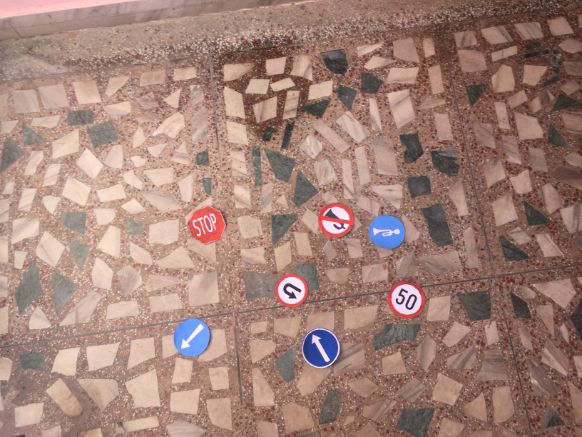blow-horn: (370, 216, 407, 247)
go-stright: (301, 328, 341, 367)
keep-left: (173, 317, 212, 357)
no-horn: (318, 202, 356, 239)
speed-50: (387, 279, 427, 317)
stop: (186, 206, 227, 244)
u-turn: (274, 273, 309, 308)
